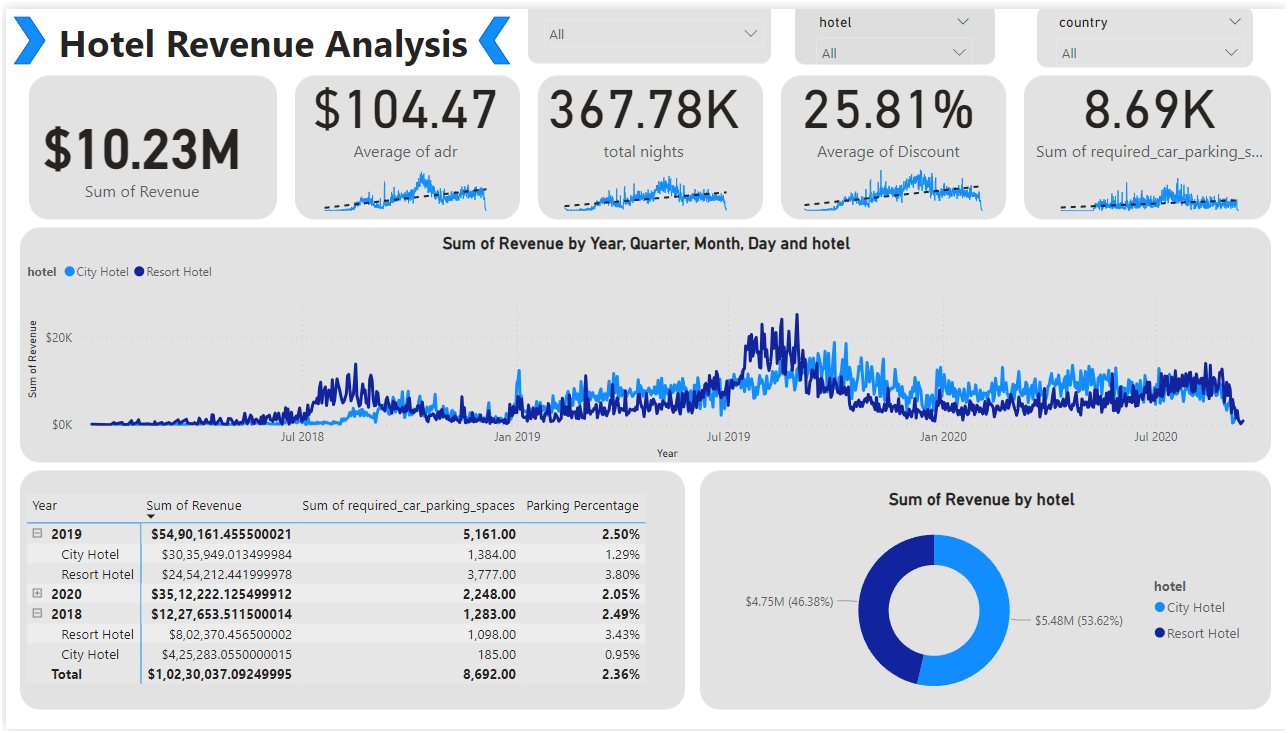

Layout of this report page (visuals, bound fields, positions):
{"tool":"powerbi","page":{"name":"Page 1","canvas":[1280,720],"ordinal":0},"visuals":[{"type":"card","fields":{"Values":["Sum(Query1.Revenue)"]},"box":[16,64,240,160],"z":0},{"type":"card","fields":{"Values":["Avg(Query1.adr)"]},"box":[288,48,224,112],"z":1000},{"type":"card","fields":{"Values":["Query1.total nights"]},"box":[533.3,48,208,112],"z":2000},{"type":"card","fields":{"Values":["Avg(Query1.Discount)"]},"box":[762.7,48,240,112],"z":3000},{"type":"lineChart","fields":{"Y":["Sum(Query1.Revenue)"],"Category":["Query1.reservation_status_date.Variation.Date Hierarchy.Year","Query1.reservation_status_date.Variation.Date Hierarchy.Quarter","Query1.reservation_status_date.Variation.Date Hierarchy.Month","Query1.reservation_status_date.Variation.Date Hierarchy.Day"],"Series":["Query1.hotel"]},"box":[16,224,1248,232],"z":4000},{"type":"slicer","fields":{"Values":["Query1.country"]},"box":[1040,0,208,64],"z":5000},{"type":"slicer","fields":{"Values":["Query1.hotel"]},"box":[800,0,176,64],"z":6000},{"type":"lineChart","fields":{"Category":["Query1.reservation_status_date.Variation.Date Hierarchy.Year","Query1.reservation_status_date.Variation.Date Hierarchy.Quarter","Query1.reservation_status_date.Variation.Date Hierarchy.Month","Query1.reservation_status_date.Variation.Date Hierarchy.Day"],"Y":["Sum(Query1.adr)"]},"box":[304,144,192,64],"z":7000},{"type":"lineChart","fields":{"Category":["Query1.reservation_status_date.Variation.Date Hierarchy.Year","Query1.reservation_status_date.Variation.Date Hierarchy.Quarter","Query1.reservation_status_date.Variation.Date Hierarchy.Month","Query1.reservation_status_date.Variation.Date Hierarchy.Day"],"Y":["Query1.total nights"]},"box":[544,144,192,64],"z":8000},{"type":"lineChart","fields":{"Category":["Query1.reservation_status_date.Variation.Date Hierarchy.Year","Query1.reservation_status_date.Variation.Date Hierarchy.Quarter","Query1.reservation_status_date.Variation.Date Hierarchy.Month","Query1.reservation_status_date.Variation.Date Hierarchy.Day"],"Y":["Sum(Query1.Discount)"]},"box":[784,144,208,64],"z":9000},{"type":"card","fields":{"Values":["Sum(Query1.required_car_parking_spaces)"]},"box":[1024,48,240,112],"z":10000},{"type":"lineChart","fields":{"Category":["Query1.reservation_status_date.Variation.Date Hierarchy.Year","Query1.reservation_status_date.Variation.Date Hierarchy.Quarter","Query1.reservation_status_date.Variation.Date Hierarchy.Month","Query1.reservation_status_date.Variation.Date Hierarchy.Day"],"Y":["Sum(Query1.required_car_parking_spaces)"]},"box":[1040,144,208,64],"z":11000},{"type":"donutChart","fields":{"Y":["Sum(Query1.Revenue)"],"Series":["Query1.hotel"]},"box":[704,480,544,224],"z":12000},{"type":"pivotTable","fields":{"Rows":["Query1.reservation_status_date.Variation.Date Hierarchy.Year","Query1.hotel"],"Values":["Sum(Query1.Revenue)","Sum(Query1.required_car_parking_spaces)","Query1.Parking Percentage"]},"box":[16,480,656,224],"z":13000},{"type":"slicer","fields":{"Values":["Query1.reservation_status_date.Variation.Date Hierarchy.Year","Query1.reservation_status_date.Variation.Date Hierarchy.Quarter","Query1.reservation_status_date.Variation.Date Hierarchy.Month","Query1.reservation_status_date.Variation.Date Hierarchy.Day"]},"box":[528,0,240,64],"z":14000},{"type":"textbox","box":[48,8,432,80],"z":15000},{"type":"shape","box":[8,8,32,48],"z":16000},{"type":"shape","box":[472,8,32,48],"z":17000}]}

Visuals, with their boxes in screenshot pixels (x1, y1, x2, y2), scaled from the page's 1280x720 canvas onto the 1288x733 screenshot:
card - Sum(Query1.Revenue): (left=16, top=65, right=258, bottom=228)
card - Avg(Query1.adr): (left=290, top=49, right=515, bottom=163)
card - Query1.total nights: (left=537, top=49, right=746, bottom=163)
card - Avg(Query1.Discount): (left=767, top=49, right=1009, bottom=163)
lineChart - Sum(Query1.Revenue) x Query1.reservation_status_date.Variation.Date Hierarchy.Year: (left=16, top=228, right=1272, bottom=464)
slicer - Query1.country: (left=1046, top=0, right=1256, bottom=65)
slicer - Query1.hotel: (left=805, top=0, right=982, bottom=65)
lineChart - Query1.reservation_status_date.Variation.Date Hierarchy.Year x Query1.reservation_status_date.Variation.Date Hierarchy.Quarter: (left=306, top=147, right=499, bottom=212)
lineChart - Query1.reservation_status_date.Variation.Date Hierarchy.Year x Query1.reservation_status_date.Variation.Date Hierarchy.Quarter: (left=547, top=147, right=741, bottom=212)
lineChart - Query1.reservation_status_date.Variation.Date Hierarchy.Year x Query1.reservation_status_date.Variation.Date Hierarchy.Quarter: (left=789, top=147, right=998, bottom=212)
card - Sum(Query1.required_car_parking_spaces): (left=1030, top=49, right=1272, bottom=163)
lineChart - Query1.reservation_status_date.Variation.Date Hierarchy.Year x Query1.reservation_status_date.Variation.Date Hierarchy.Quarter: (left=1046, top=147, right=1256, bottom=212)
donutChart - Sum(Query1.Revenue) x Query1.hotel: (left=708, top=489, right=1256, bottom=717)
pivotTable - Query1.reservation_status_date.Variation.Date Hierarchy.Year x Query1.hotel: (left=16, top=489, right=676, bottom=717)
slicer - Query1.reservation_status_date.Variation.Date Hierarchy.Year x Query1.reservation_status_date.Variation.Date Hierarchy.Quarter: (left=531, top=0, right=773, bottom=65)
textbox: (left=48, top=8, right=483, bottom=90)
shape: (left=8, top=8, right=40, bottom=57)
shape: (left=475, top=8, right=507, bottom=57)
